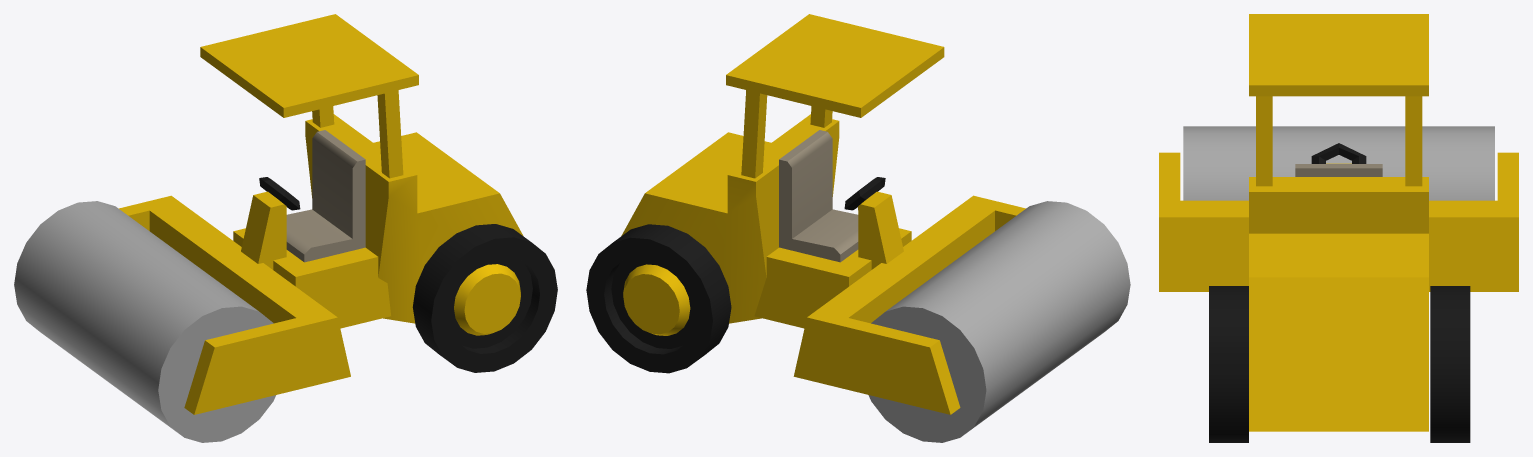
The model's file is wals.fbx.
The picture shows the model from 3 angles, left to right: view 1: azimuth 30°, elevation 25°; view 2: azimuth 150°, elevation 25°; view 3: azimuth 270°, elevation 25°; orthographic projection. The views are drawn at different scales.
Parts seen in each view (by area): view 1: pCube9, pCylinder2, pCube4, pCylinder4, pCube8, pTorus1; view 2: pCube9, pCylinder2, pCube4, pCylinder3, pCube8, pTorus1; view 3: pCube9, pCube4, pCylinder2, pCylinder3, pCylinder4, pCube8, pTorus1.
Boxes of the visible parts, x1,y1,x2,y2 form: pCube9: [200, 14, 523, 328]; pCylinder2: [14, 201, 275, 442]; pCube4: [119, 195, 350, 414]; pCylinder4: [412, 224, 557, 372]; pCube8: [286, 130, 365, 262]; pTorus1: [259, 177, 300, 210]; pCube9: [621, 14, 944, 328]; pCylinder2: [868, 201, 1130, 442]; pCube4: [793, 195, 1025, 414]; pCylinder3: [586, 224, 731, 373]; pCube8: [779, 130, 858, 262]; pTorus1: [844, 177, 885, 210]; pCube9: [1249, 14, 1428, 431]; pCube4: [1159, 152, 1518, 291]; pCylinder2: [1183, 126, 1494, 200]; pCylinder3: [1430, 286, 1470, 442]; pCylinder4: [1209, 286, 1248, 442]; pCube8: [1295, 164, 1382, 176]; pTorus1: [1311, 143, 1366, 163].
Bounding box in the file's own units: 0.2602 × 0.1723 × 0.1752.
